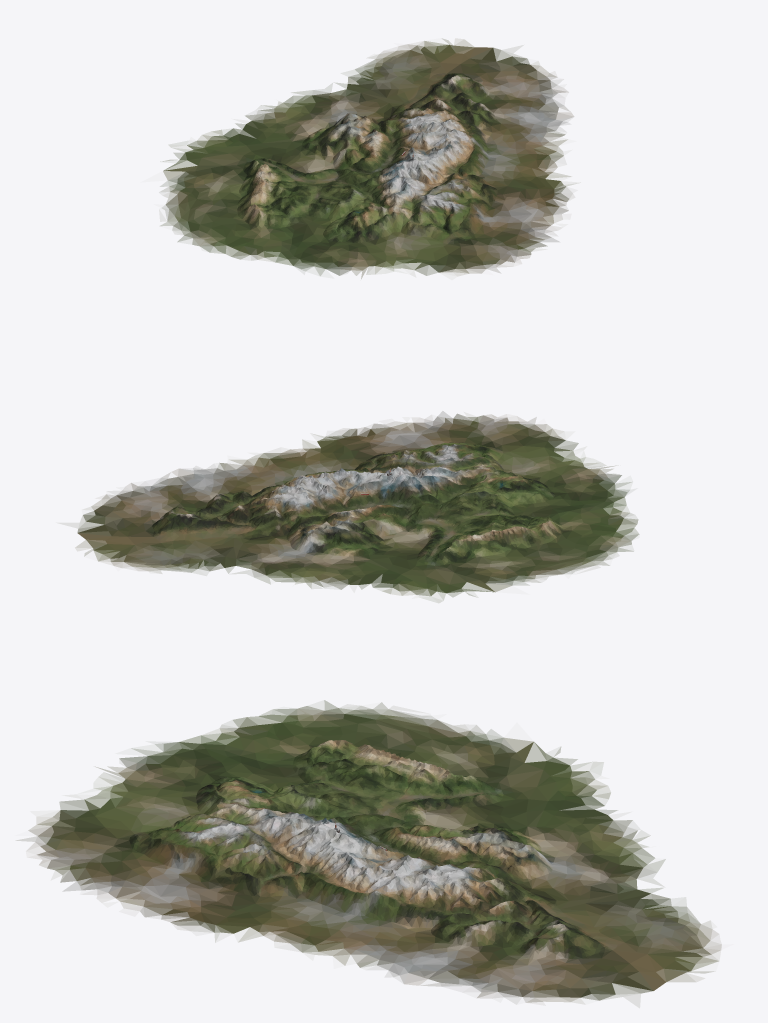
The model's file is map_attribs_12.glb.
3 views of the same model, one above another, from view 1: azimuth 30°, elevation 25°; view 2: azimuth 150°, elevation 25°; view 3: azimuth 270°, elevation 25° (orthographic). The views are drawn at different scales.
Parts seen in each view (by area): view 1: map_tri; view 2: map_tri; view 3: map_tri.
Boxes of the visible parts, left/top/right/bottom form: map_tri: left=160, top=39, right=576, bottom=278; map_tri: left=75, top=411, right=639, bottom=602; map_tri: left=16, top=700, right=721, bottom=1004.
Size of the model in its own units: 235 by 13.45 by 235.
3 materials, 2 textured.
